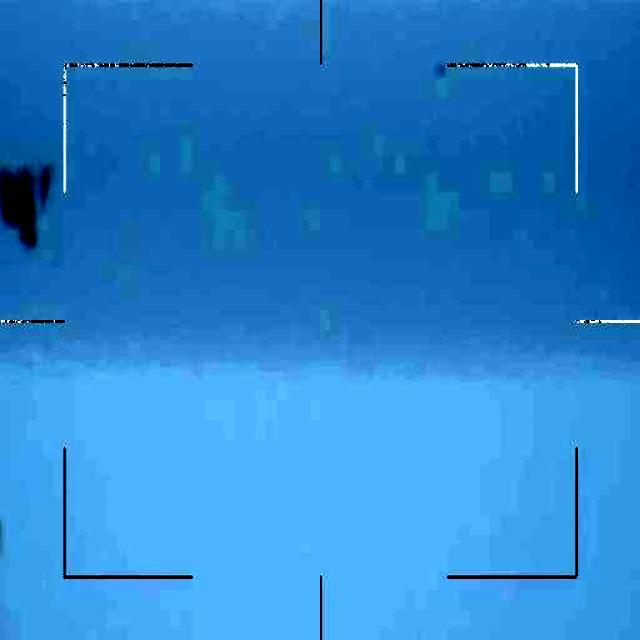bird: (0, 150, 68, 248)
